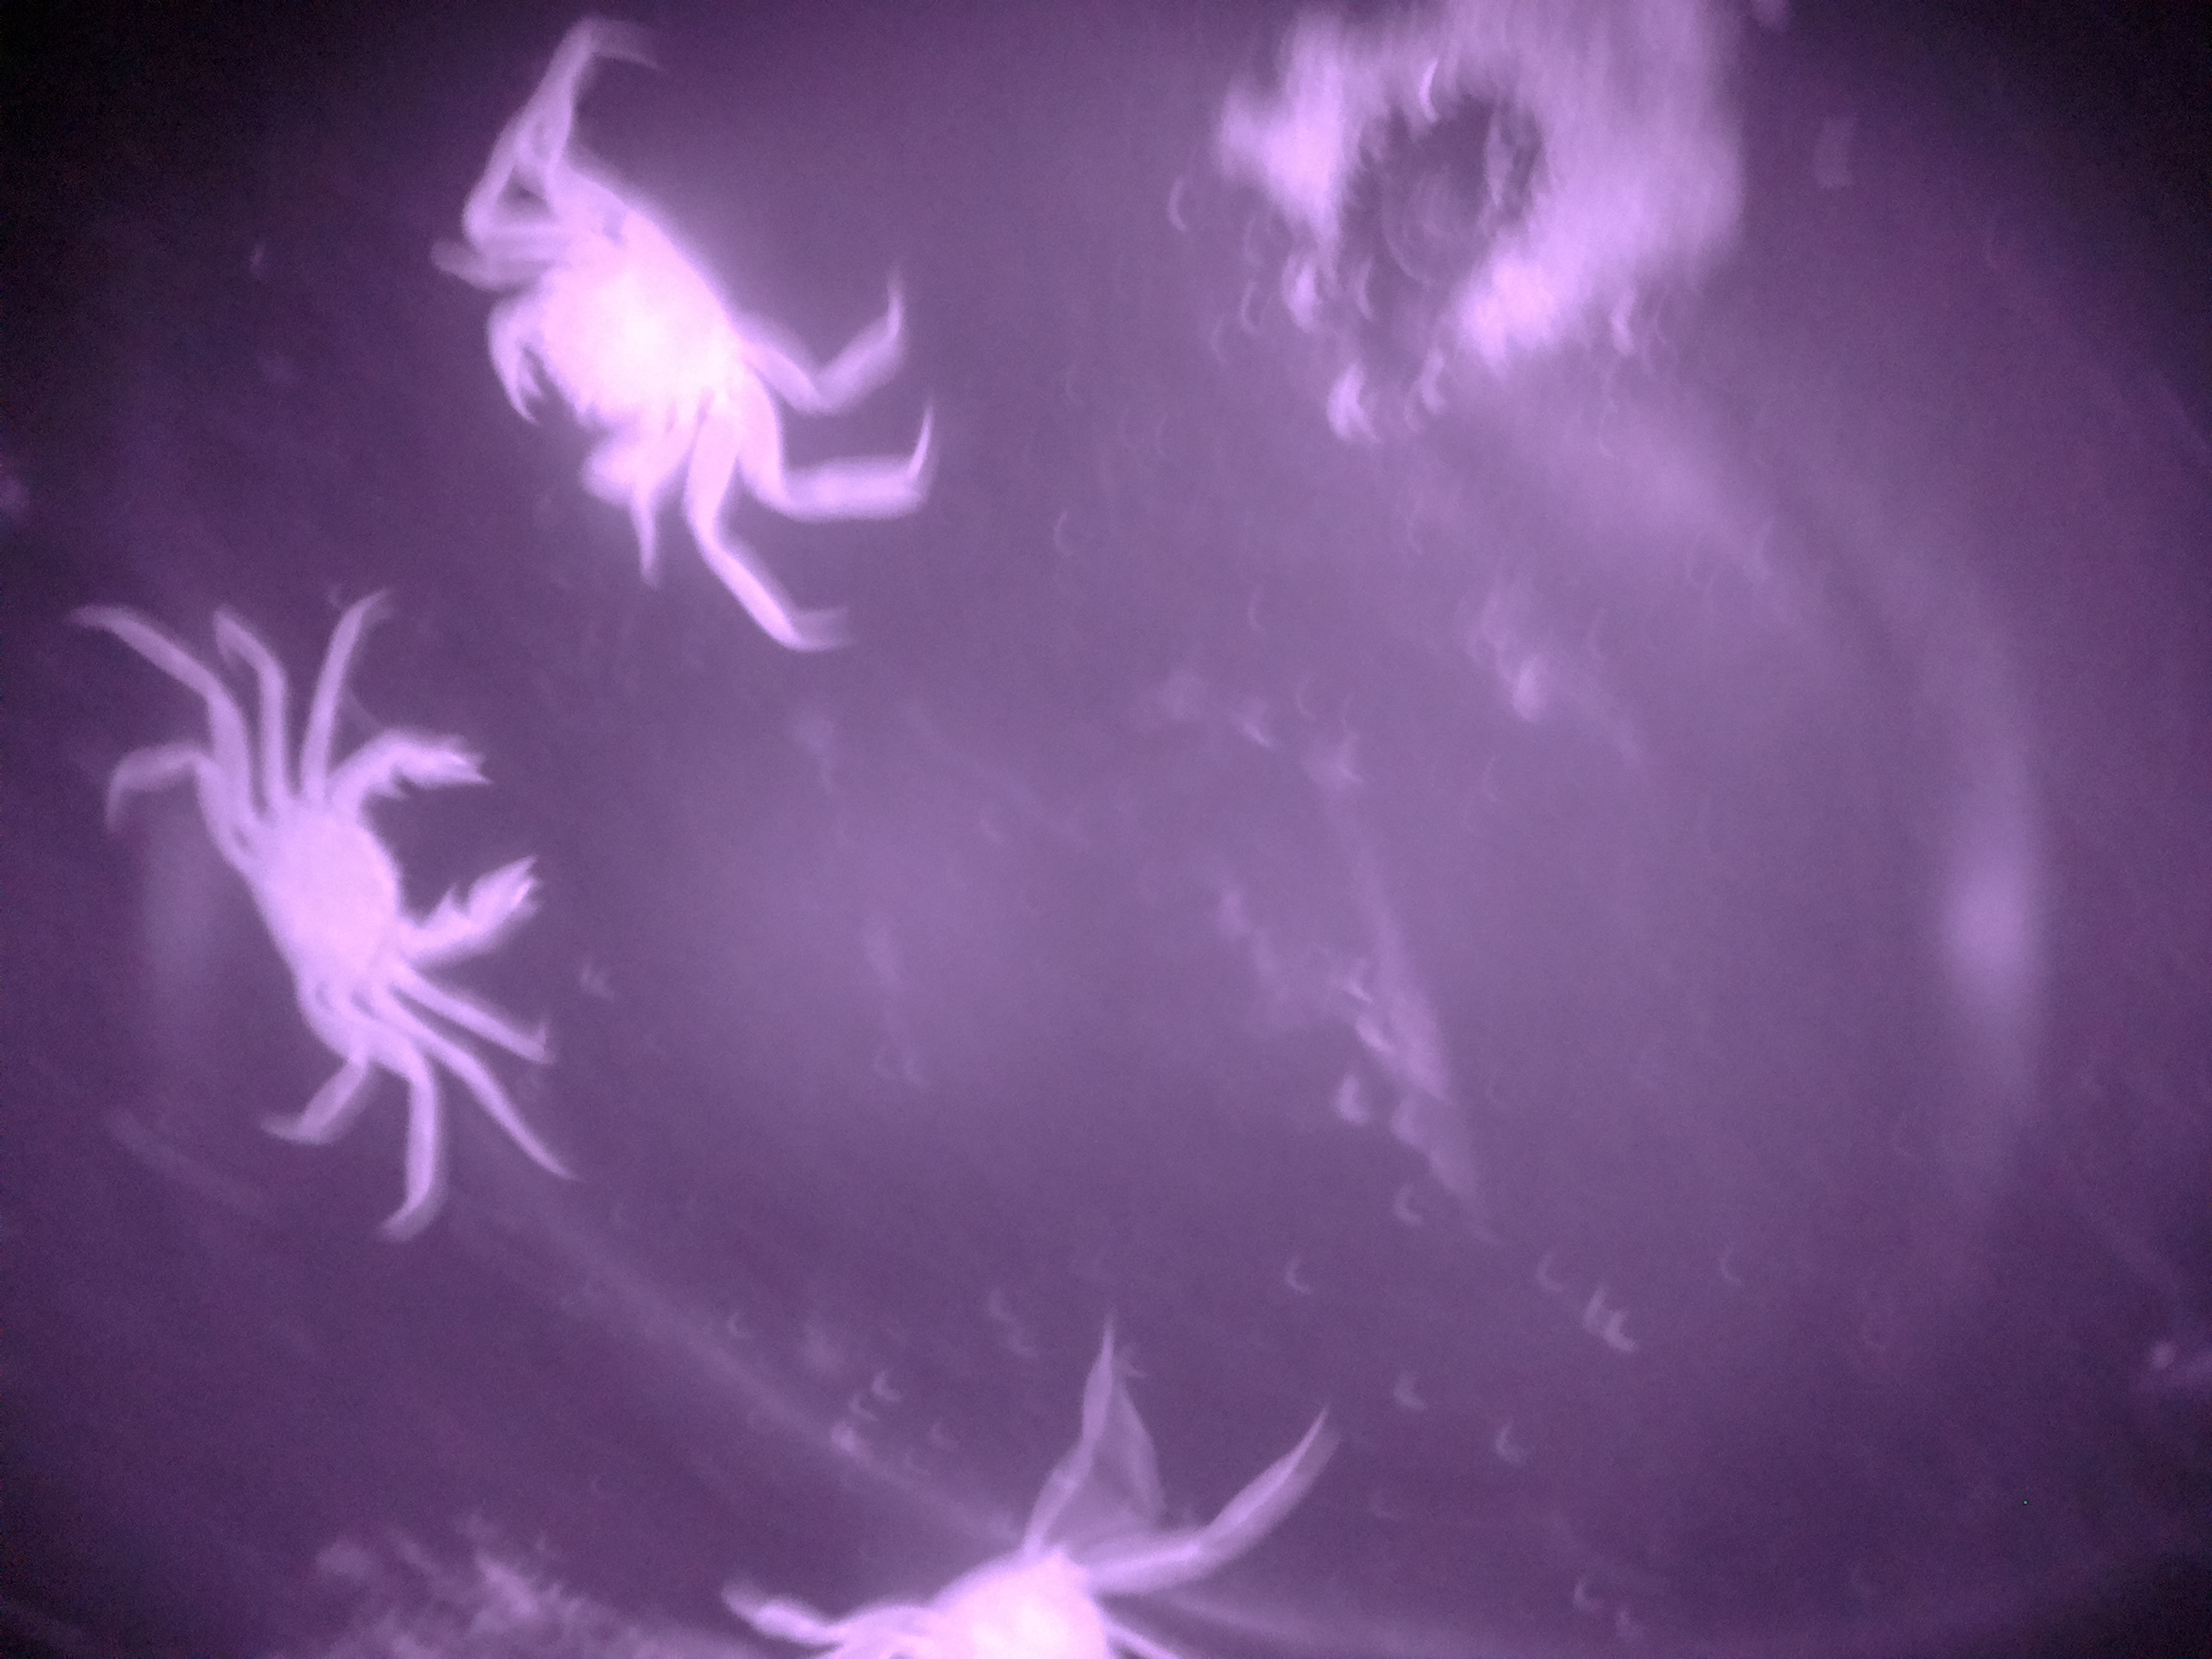Crab: (91, 714, 571, 1054)
